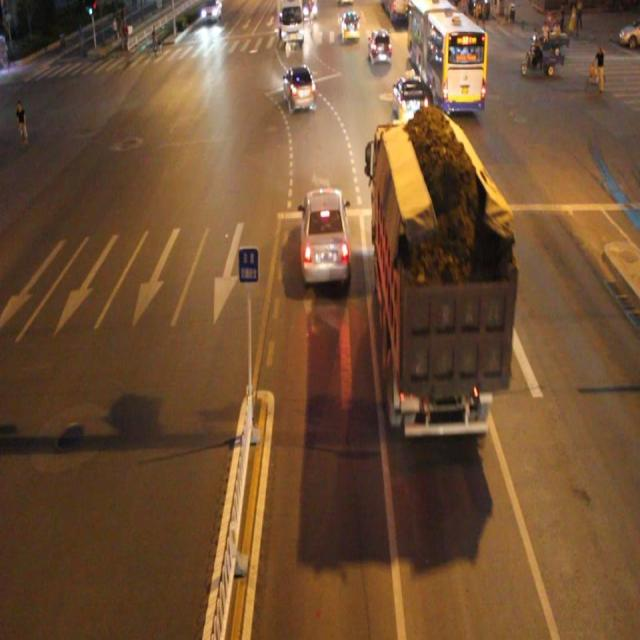bus: (372, 124, 509, 433)
car: (298, 186, 351, 285), (392, 73, 429, 127), (284, 62, 316, 114)
van: (408, 1, 485, 113)
